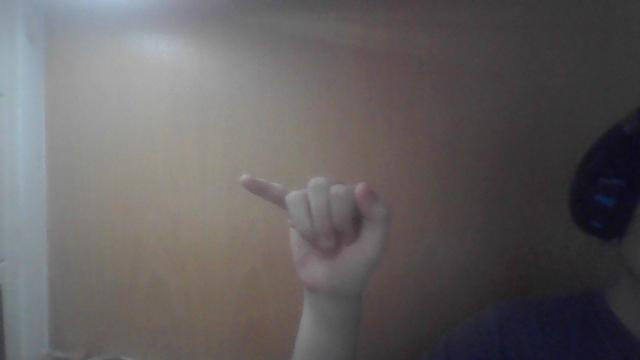Right: (242, 173, 392, 291)
